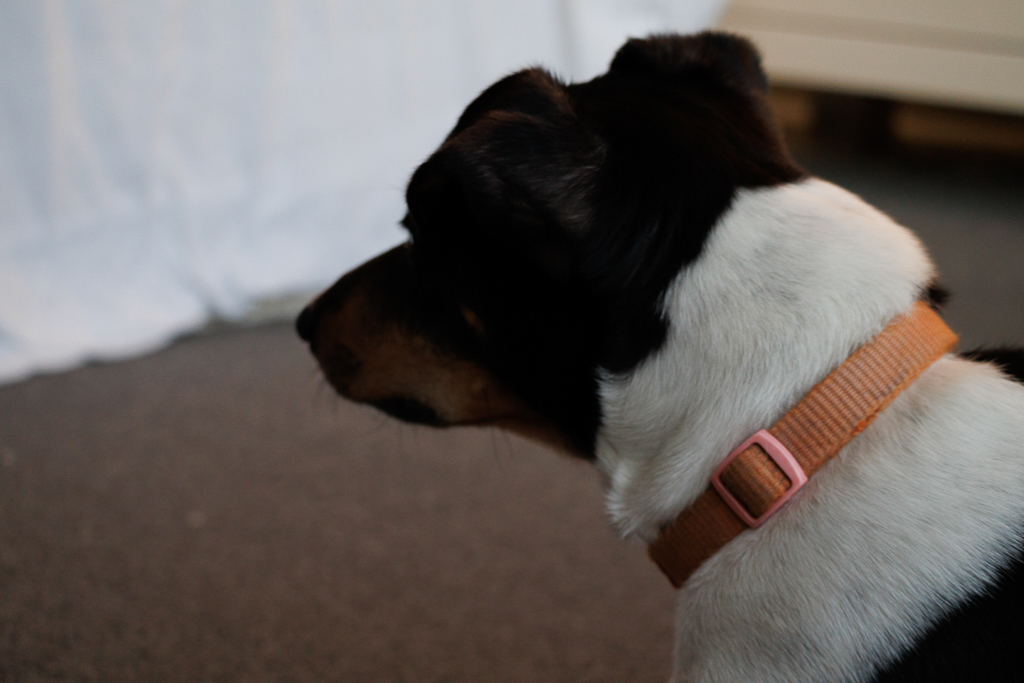Dog: (285, 18, 1023, 682)
